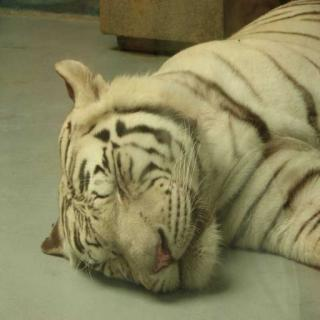Tiger: (35, 0, 320, 297)
